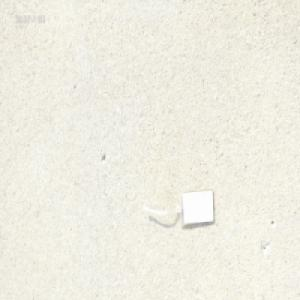LuggageTag: (143, 186, 215, 227)
